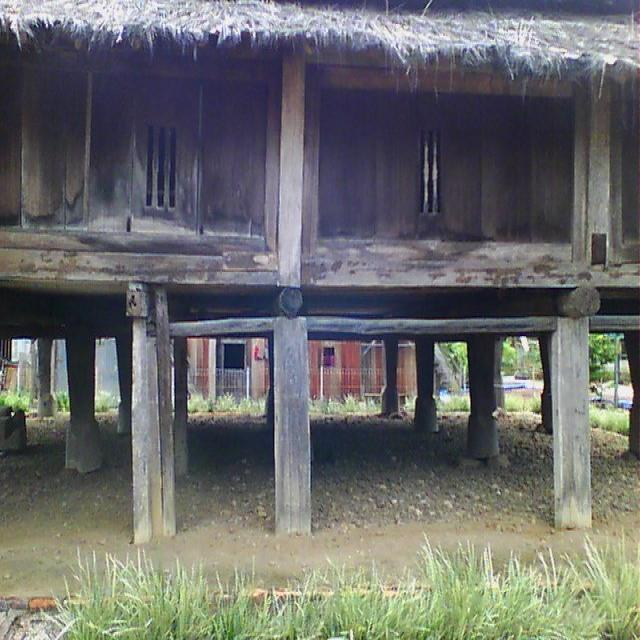Kolom: (175, 338, 187, 479)
